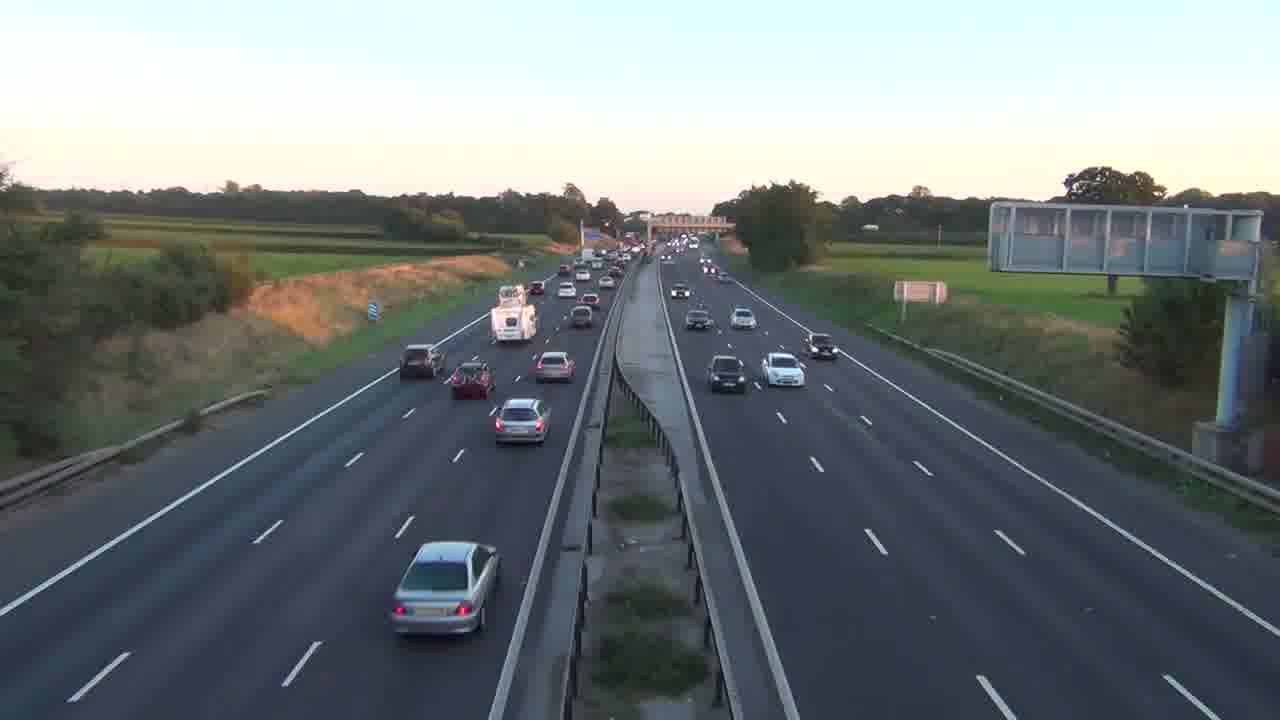car: (386, 540, 500, 638), (492, 396, 550, 447), (706, 354, 749, 393), (762, 352, 806, 388), (531, 350, 576, 384), (804, 333, 837, 361), (567, 304, 594, 328), (730, 306, 757, 329), (685, 310, 712, 331)
truck: (490, 302, 538, 343)
